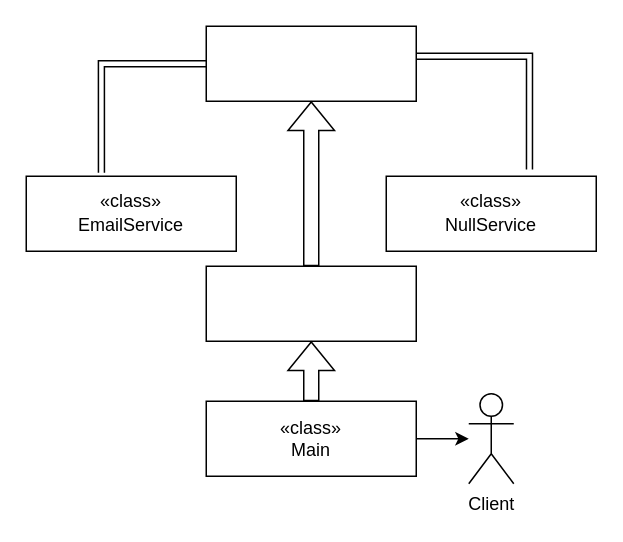
Image size: 623x542. Some labels were removed from this diagram. Here are the shapes that lost their labels. From the top down, the centre of each, then its label:
At (310,63): "«interface» NotificationService".
At (310,303): "«class» NotificationApp".
